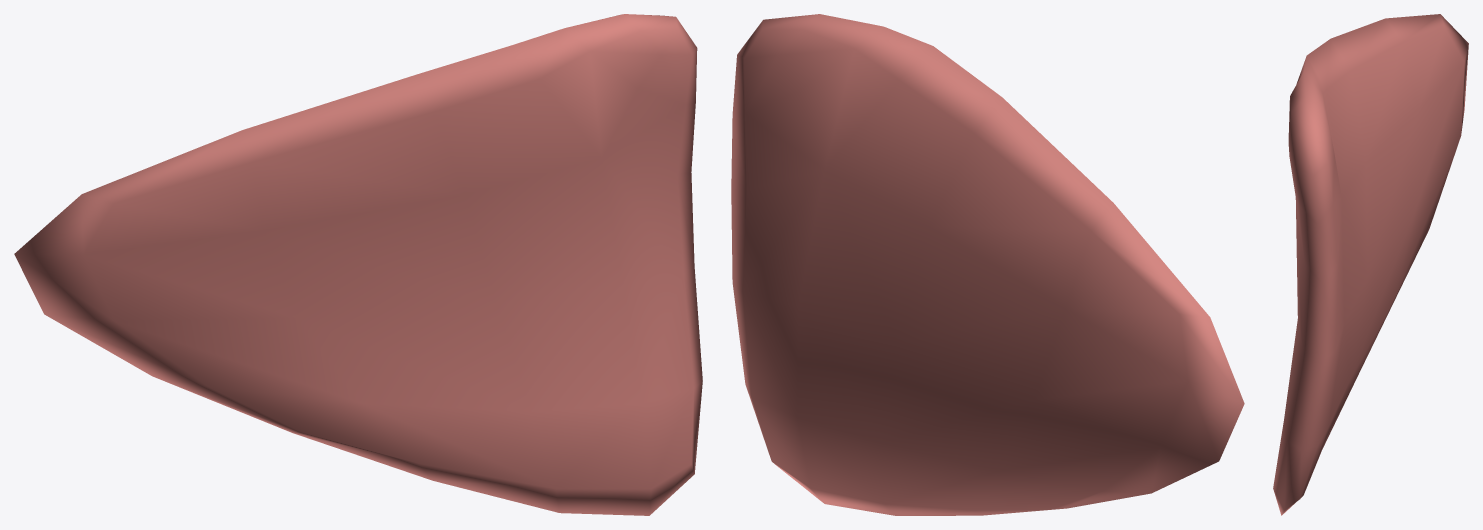
3 views of the same model, side by side, from view 1: azimuth 30°, elevation 25°; view 2: azimuth 150°, elevation 25°; view 3: azimuth 270°, elevation 25° (orthographic). The views are drawn at different scales.
Parts seen in each view (by area): view 1: ZA_3b330524e4a0cf6a; view 2: ZA_3b330524e4a0cf6a; view 3: ZA_3b330524e4a0cf6a.
Boxes of the visible parts, x1,y1,x2,y2 form: ZA_3b330524e4a0cf6a: (14,14,702,515); ZA_3b330524e4a0cf6a: (731,14,1244,515); ZA_3b330524e4a0cf6a: (1273,14,1468,515).
Bounding box in the file's own units: 0.00579 × 0.00463 × 0.00198.
